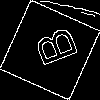B: (24, 24, 79, 72)
